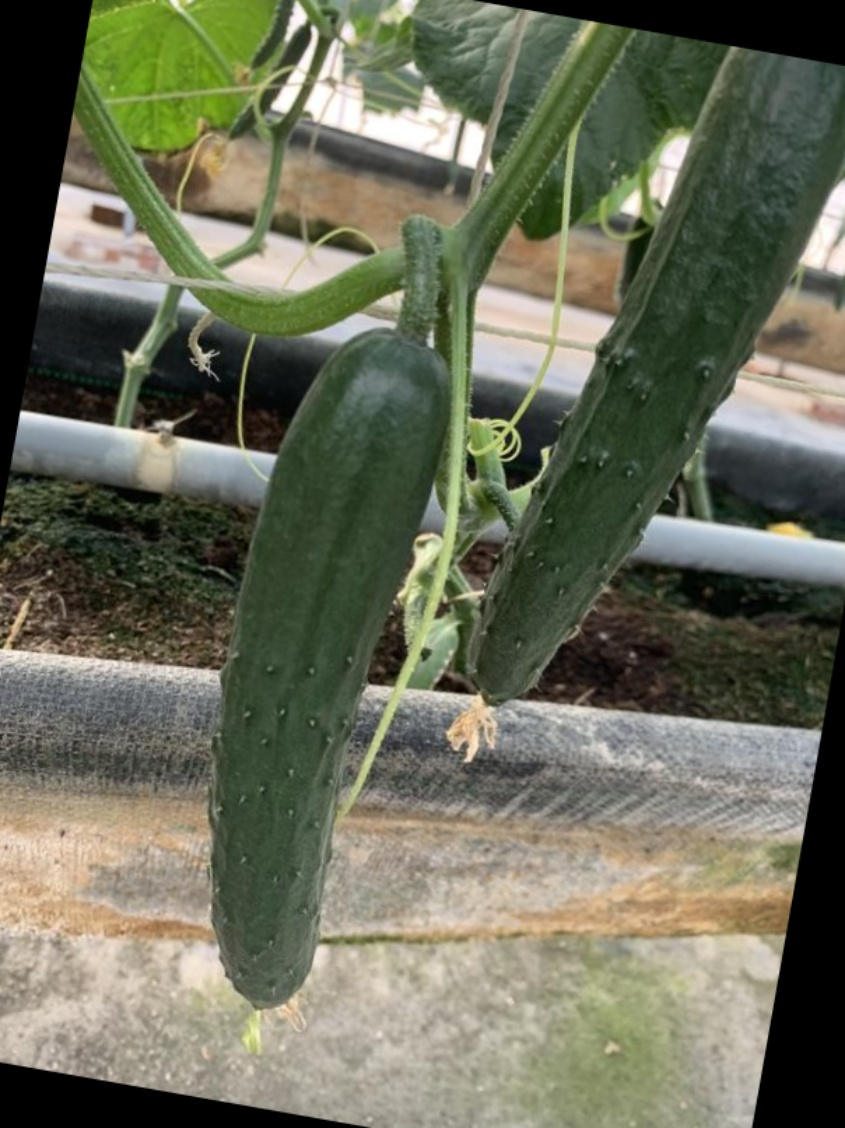mature: (464, 43, 842, 717)
